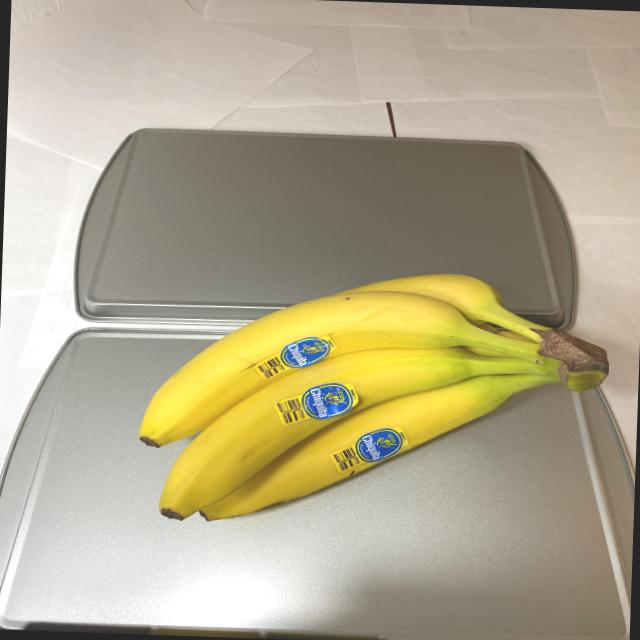banana: (134, 256, 623, 552)
